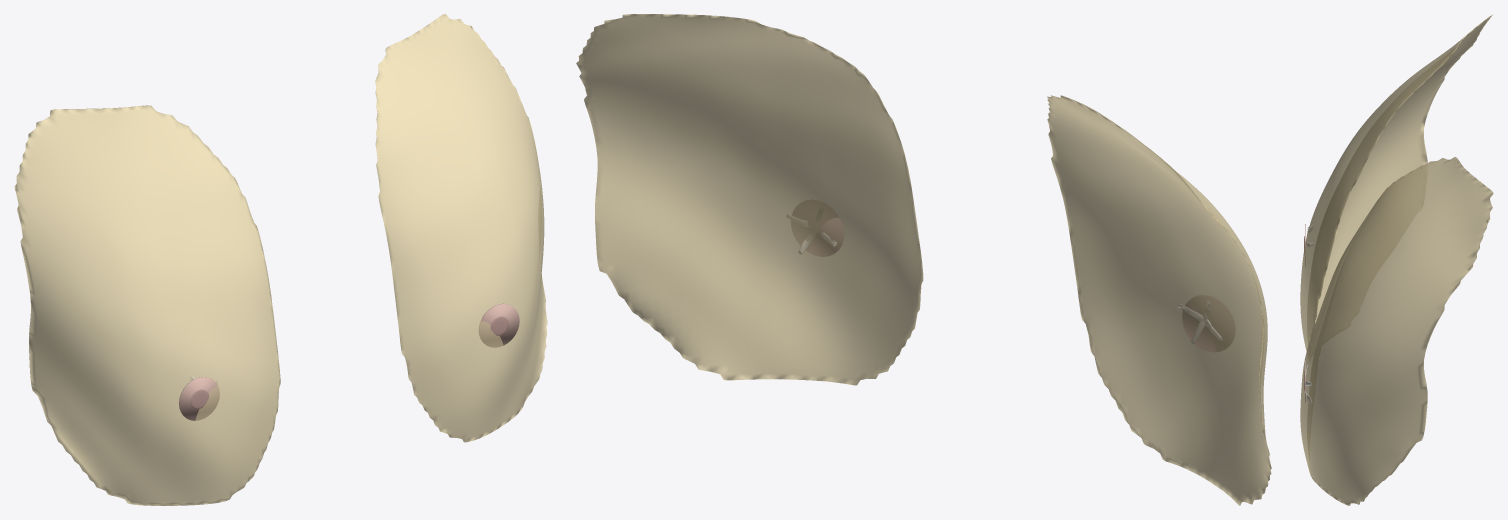
File: male_chest.glb
The picture shows the model from 3 angles, left to right: view 1: azimuth 30°, elevation 25°; view 2: azimuth 150°, elevation 25°; view 3: azimuth 270°, elevation 25°; orthographic projection. The views are drawn at different scales.
Parts seen in each view (by area): view 1: VH_M_subcutaneous_adipose_tissue_R, VH_M_subcutaneous_adipose_tissue_L, VH_M_areola_R, VH_M_areola_L; view 2: VH_M_subcutaneous_adipose_tissue_L, VH_M_subcutaneous_adipose_tissue_R, VH_M_areola_R; view 3: VH_M_subcutaneous_adipose_tissue_L, VH_M_subcutaneous_adipose_tissue_R.
Part boxes in pixels (bbox=[...]): VH_M_subcutaneous_adipose_tissue_R: bbox=[14, 105, 280, 505]; VH_M_subcutaneous_adipose_tissue_L: bbox=[375, 14, 547, 442]; VH_M_areola_R: bbox=[479, 303, 519, 347]; VH_M_areola_L: bbox=[179, 377, 219, 420]; VH_M_subcutaneous_adipose_tissue_L: bbox=[576, 14, 923, 385]; VH_M_subcutaneous_adipose_tissue_R: bbox=[1047, 95, 1271, 505]; VH_M_areola_R: bbox=[809, 217, 843, 256]; VH_M_subcutaneous_adipose_tissue_L: bbox=[1300, 157, 1493, 505]; VH_M_subcutaneous_adipose_tissue_R: bbox=[1300, 14, 1492, 350].
Bounding box in the file's own units: 0.2752 × 0.1747 × 0.0973.
